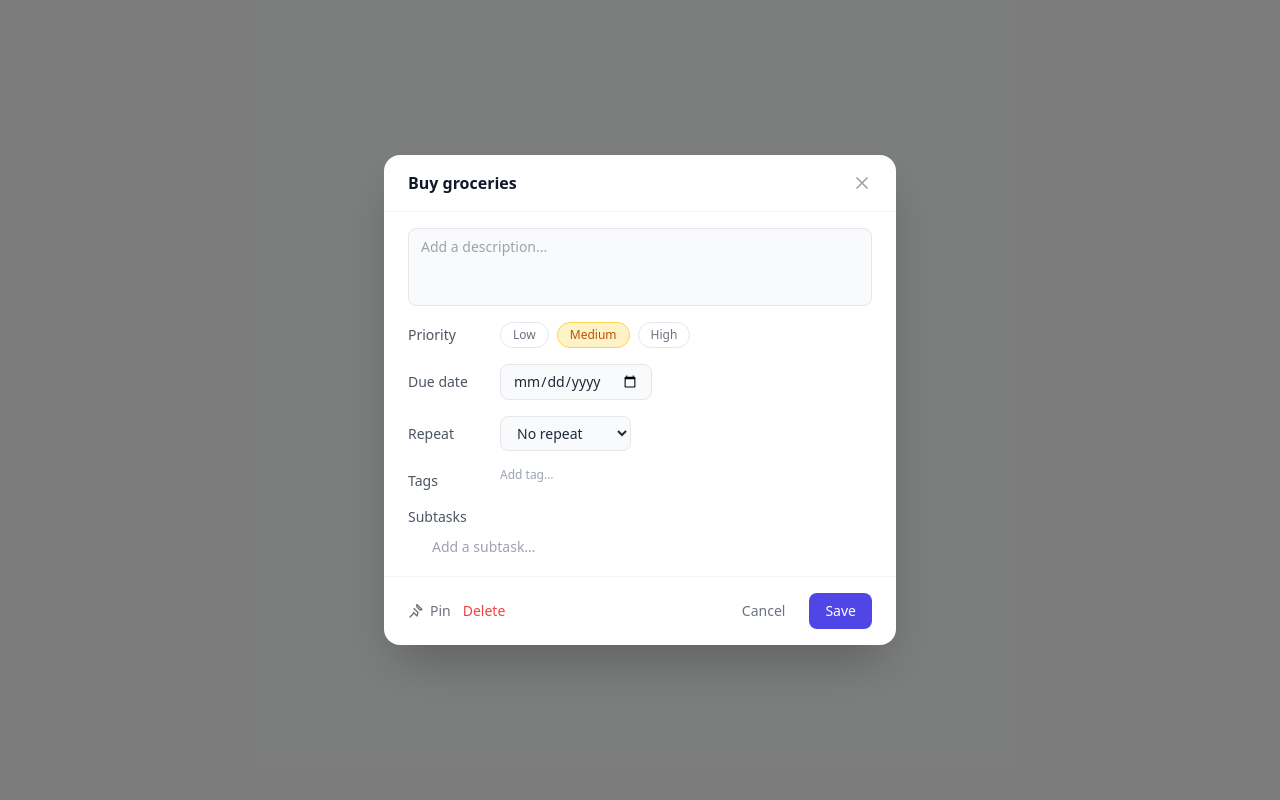
Test: TaskModal – recurrence › shows custom day pickers when "Custom days" is selected
This screenshot has width=1280, height=800.
Select "Custom days" in the dropdown named "recurrence frequency" at (566,434), box [500,416,631,451]
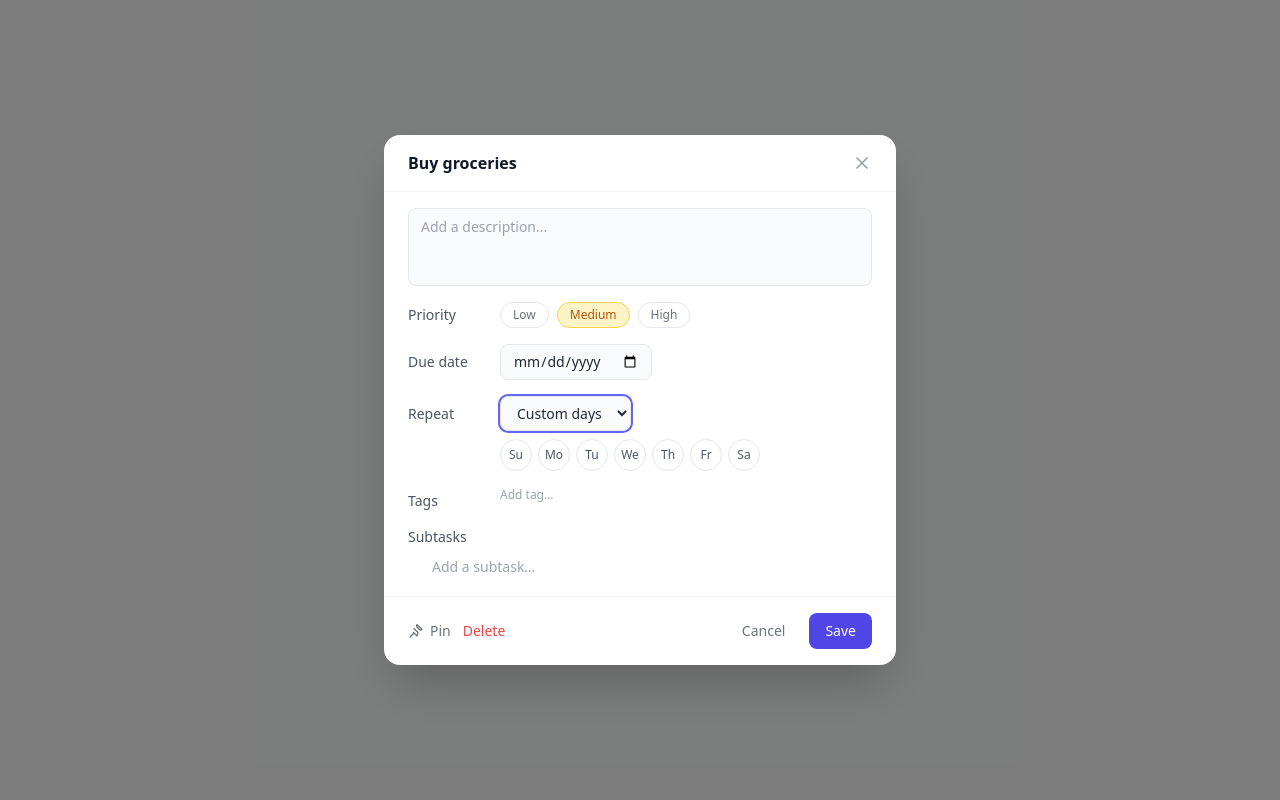
Expected: the button with aria-label "monday" is shown, [538,439,570,471]
